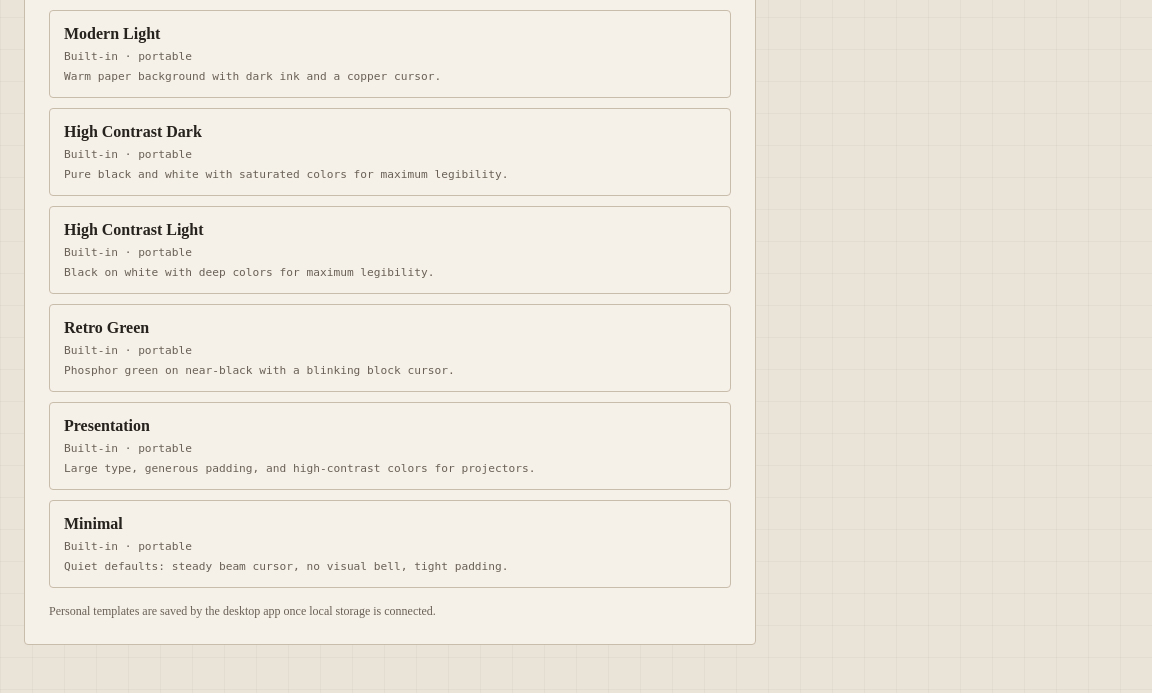
Scenario: App › built-in templates are offered by default and start a draft
The width and height of the screenshot is (1152, 693).
(page scrolled)
Click the button "Retro Green". click: (107, 328)
box: [49,304,731,392]
(page scrolled)
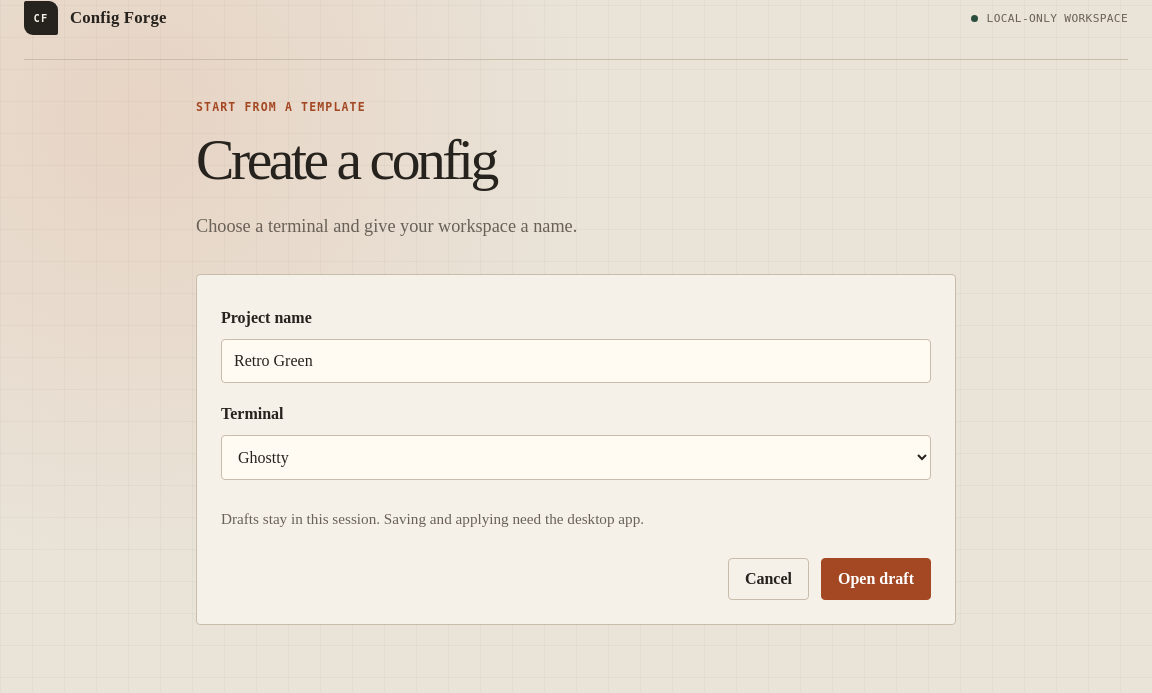
Select "Kitty" in the dropdown labelled "Terminal". click: (576, 457)
box: [221,435,931,480]
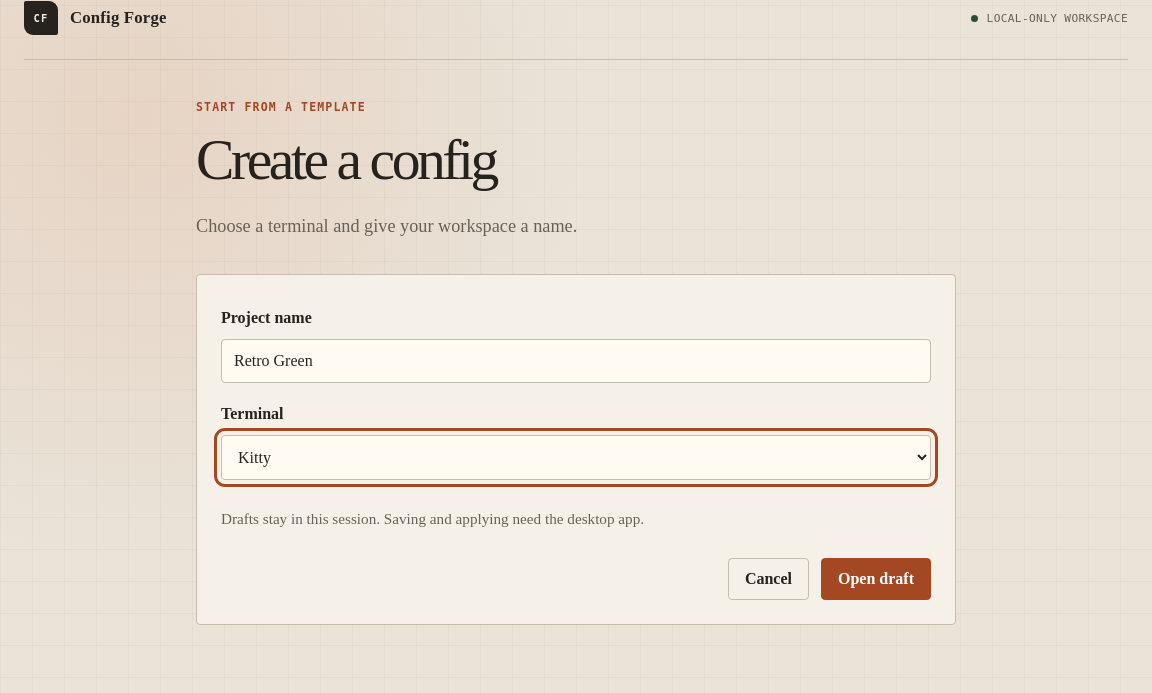
Click the button "Open draft". click: (876, 579)
box: [821,558,931,600]
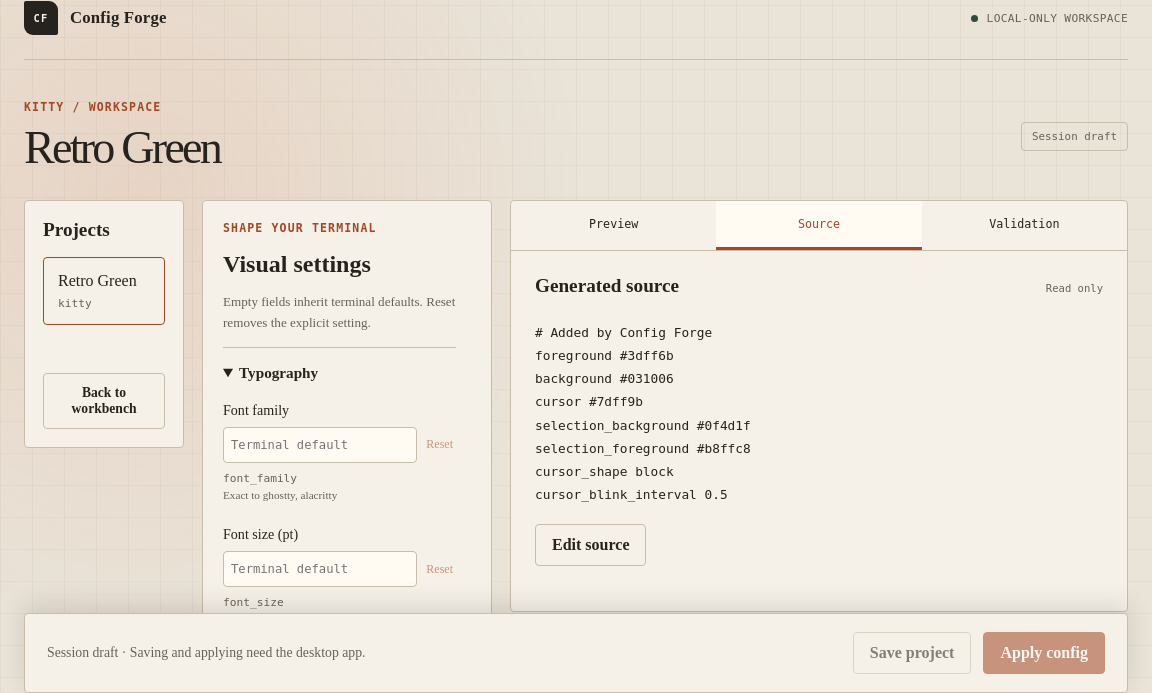
expect the text "kitty" is shown: met, box [58,297,92,310]
